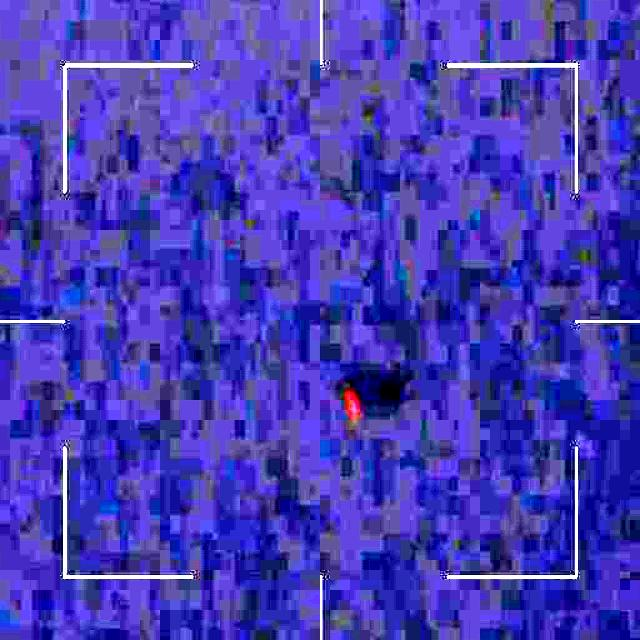bird: (335, 378, 368, 429)
